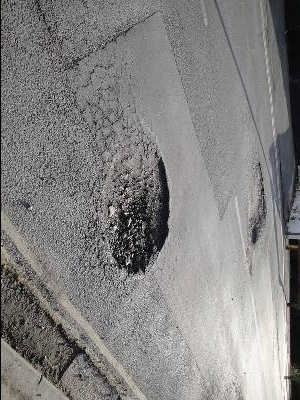pothole: (1, 258, 84, 384), (103, 135, 173, 276), (244, 157, 270, 247)
